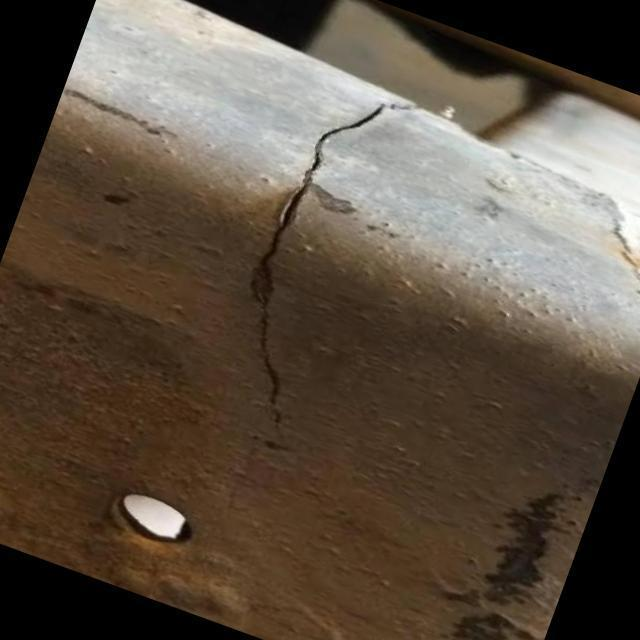defect: (248, 97, 425, 456)
